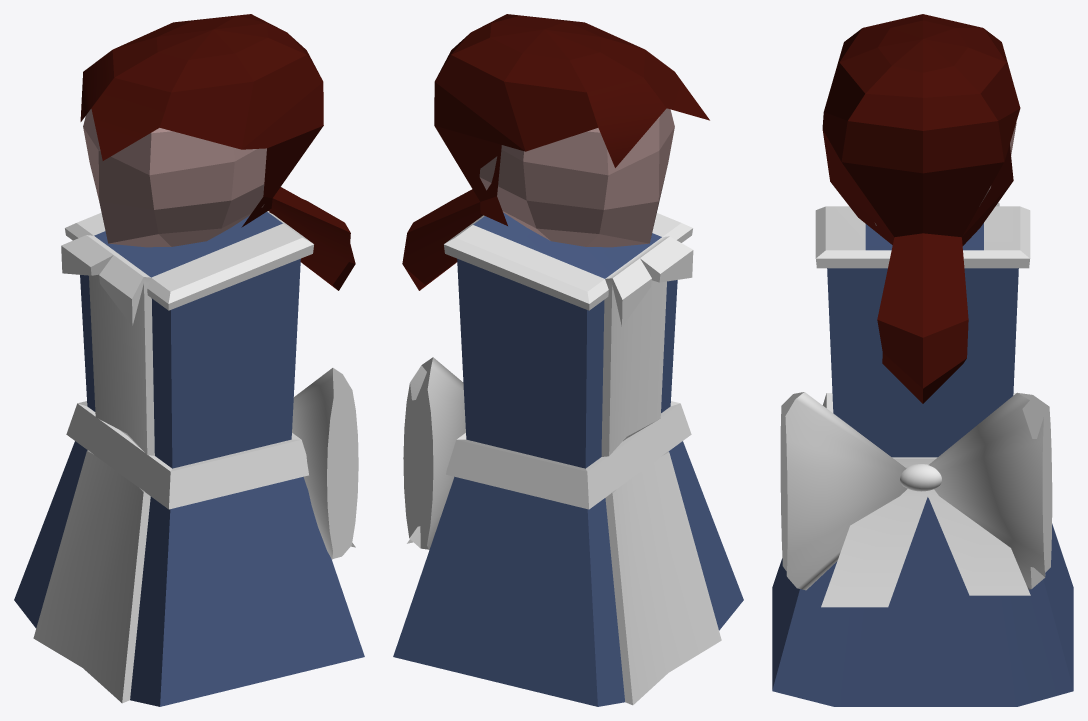
Rendered from Player_Character.fbx.
3 renders of one model, left to right at view 1: azimuth 30°, elevation 25°; view 2: azimuth 150°, elevation 25°; view 3: azimuth 270°, elevation 25°, orthographic. The views are drawn at different scales.
Parts seen in each view (by area): view 1: Player_Character; view 2: Player_Character; view 3: Player_Character.
Part boxes in pixels (left/top/right/bottom): Player_Character: left=14, top=14, right=364, bottom=706; Player_Character: left=393, top=14, right=743, bottom=706; Player_Character: left=772, top=14, right=1073, bottom=706.
Size of the model in its own units: 97.46 by 202 by 87.89.
